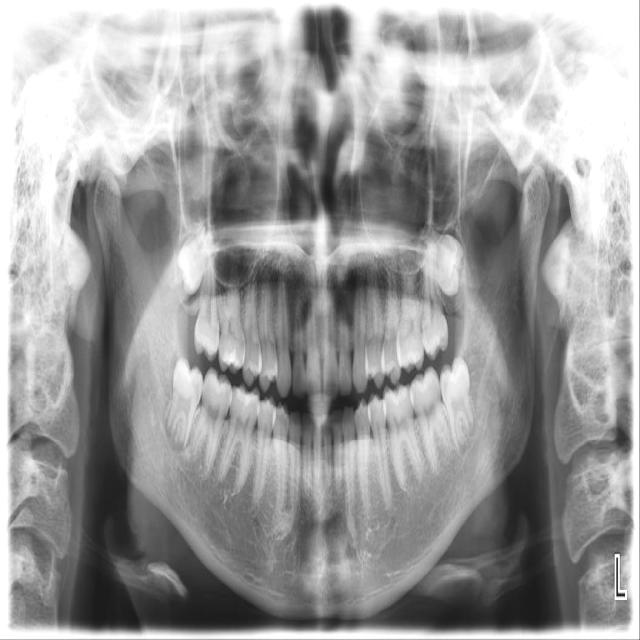Filling: (222, 346, 243, 368), (235, 388, 258, 407)
